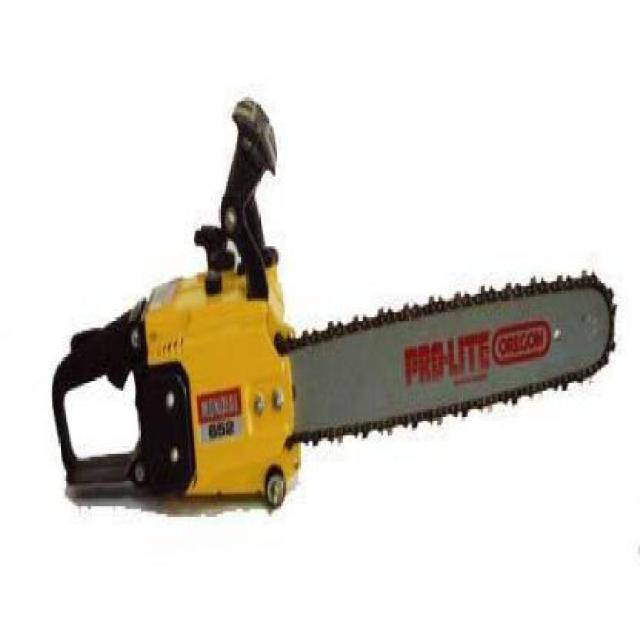Chainsaw: (49, 92, 623, 517)
